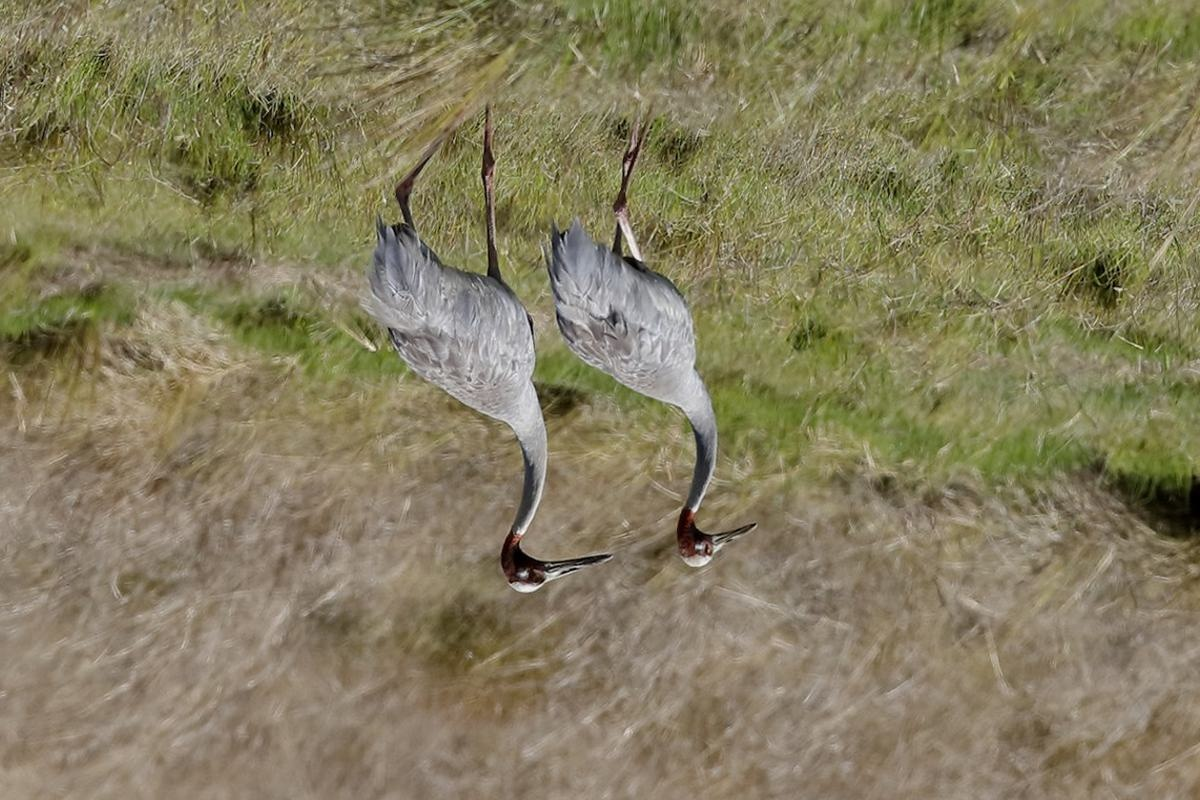crane: (334, 95, 616, 610), (549, 125, 760, 580)
